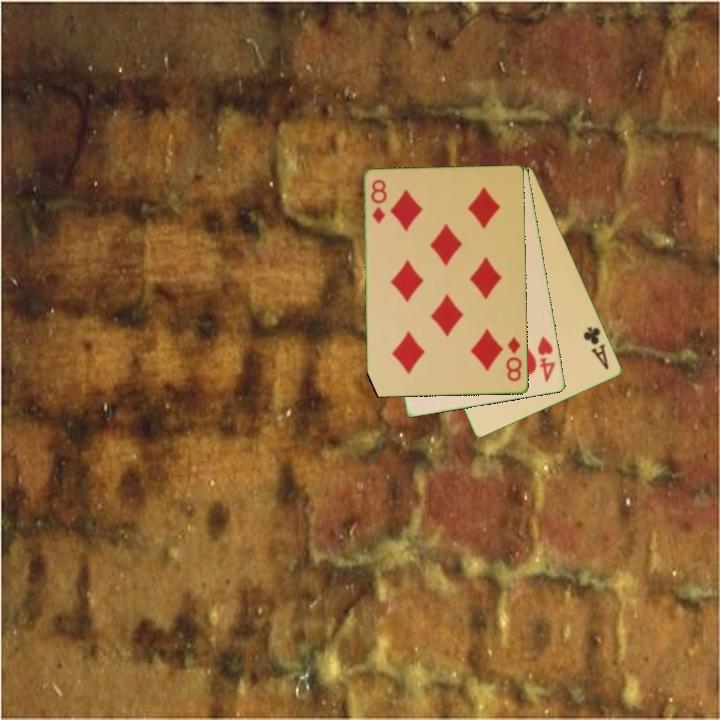4h: (534, 332, 559, 385)
8d: (367, 176, 389, 227), (503, 334, 525, 384)
Ac: (580, 323, 612, 372)
